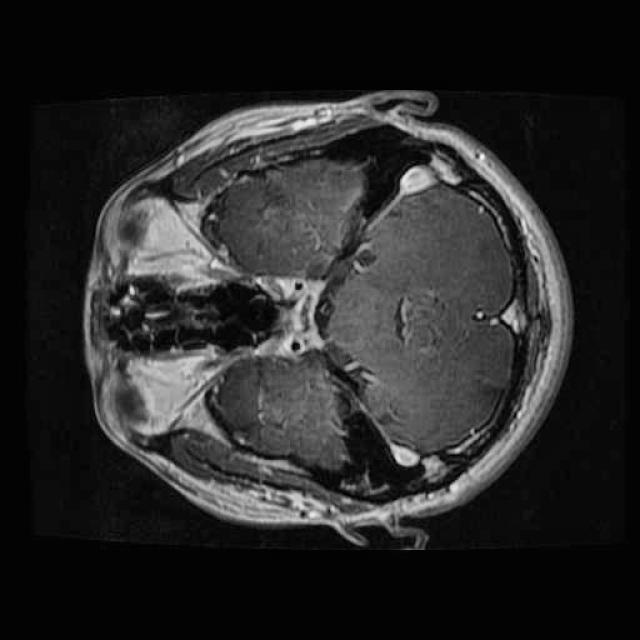Tumor: (336, 226, 396, 290)
